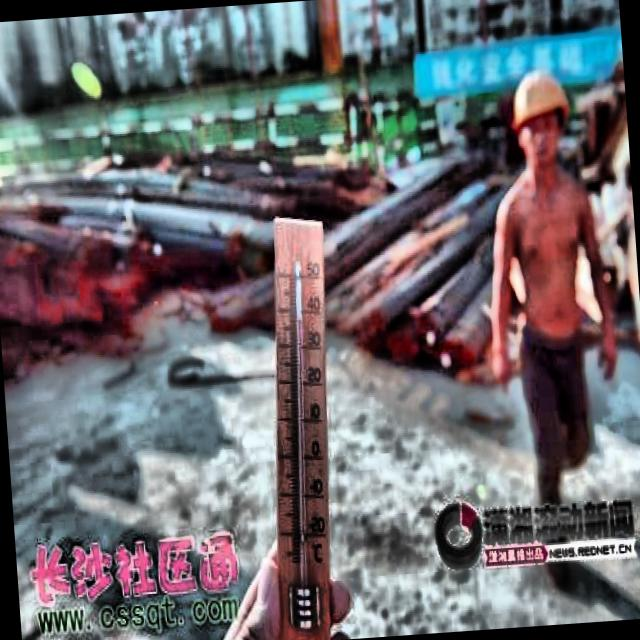helmet: (505, 60, 579, 177)
